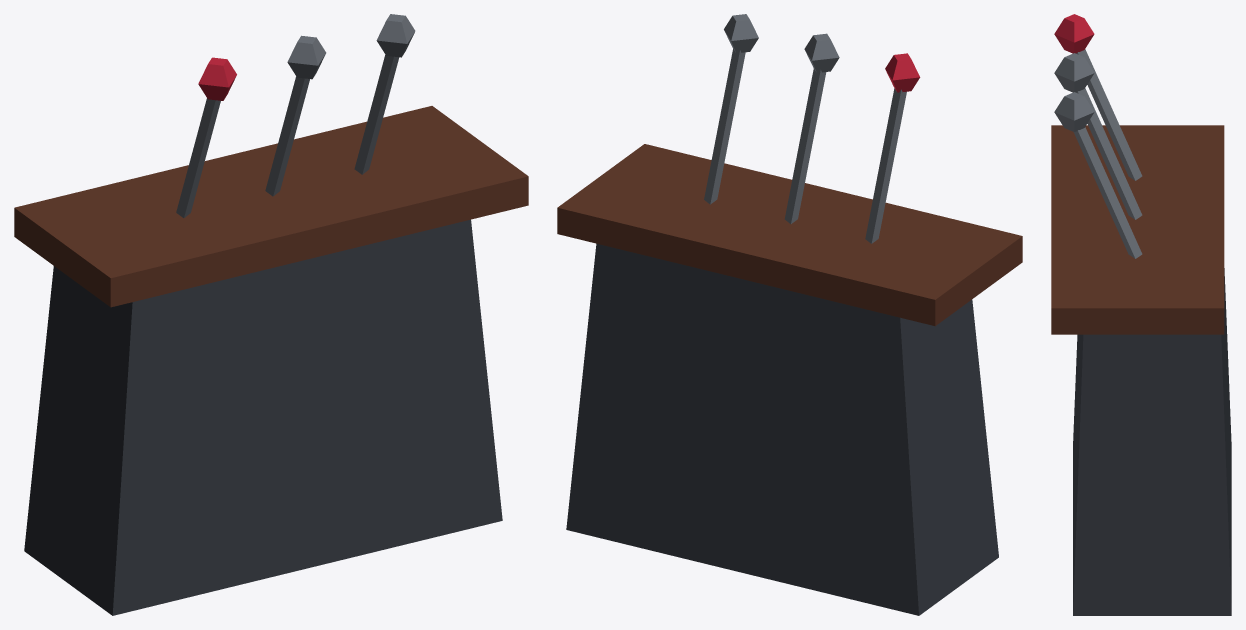
Rendered from SM_Prop_WinchControls_LQ.glb.
The picture shows the model from 3 angles, left to right: view 1: azimuth 30°, elevation 25°; view 2: azimuth 150°, elevation 25°; view 3: azimuth 270°, elevation 25°; orthographic projection. The views are drawn at different scales.
Visible parts, largest first — view 1: SM_Prop_WinchControls_LQ; view 2: SM_Prop_WinchControls_LQ; view 3: SM_Prop_WinchControls_LQ.
Part boxes in pixels (<box>): SM_Prop_WinchControls_LQ: <box>14,14,528,615</box>; SM_Prop_WinchControls_LQ: <box>557,14,1022,615</box>; SM_Prop_WinchControls_LQ: <box>1051,14,1231,615</box>.
Size of the model in its own units: 1.5 by 1.81 by 0.625.
Materials: 1 (1 with a texture image).
